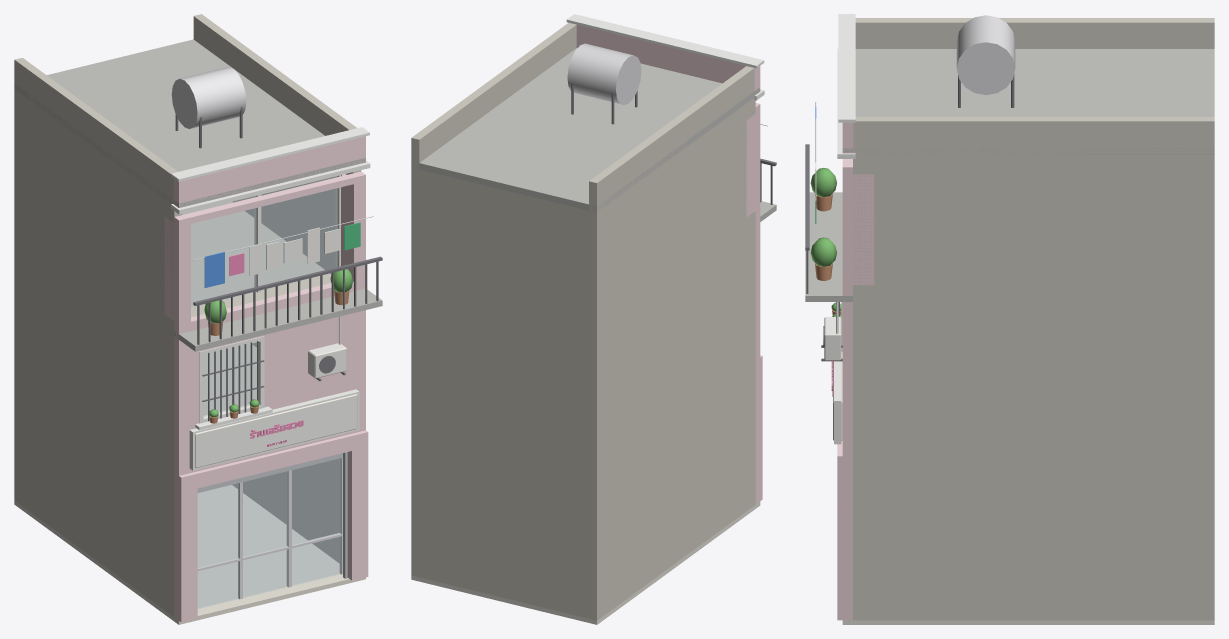
The model's file is SM_Shop_Salon.fbx.
3 renders of one model, left to right at view 1: azimuth 30°, elevation 25°; view 2: azimuth 150°, elevation 25°; view 3: azimuth 270°, elevation 25°, orthographic. The views are drawn at different scales.
Visible parts, largest first — view 1: SM_Shop_Salon; view 2: SM_Shop_Salon; view 3: SM_Shop_Salon.
Boxes of the visible parts, <box> form: SM_Shop_Salon: <box>14,14,382,624</box>; SM_Shop_Salon: <box>411,14,776,624</box>; SM_Shop_Salon: <box>805,14,1214,624</box>.
Bounding box in the file's own units: 4.7 × 11.3 × 7.7.
